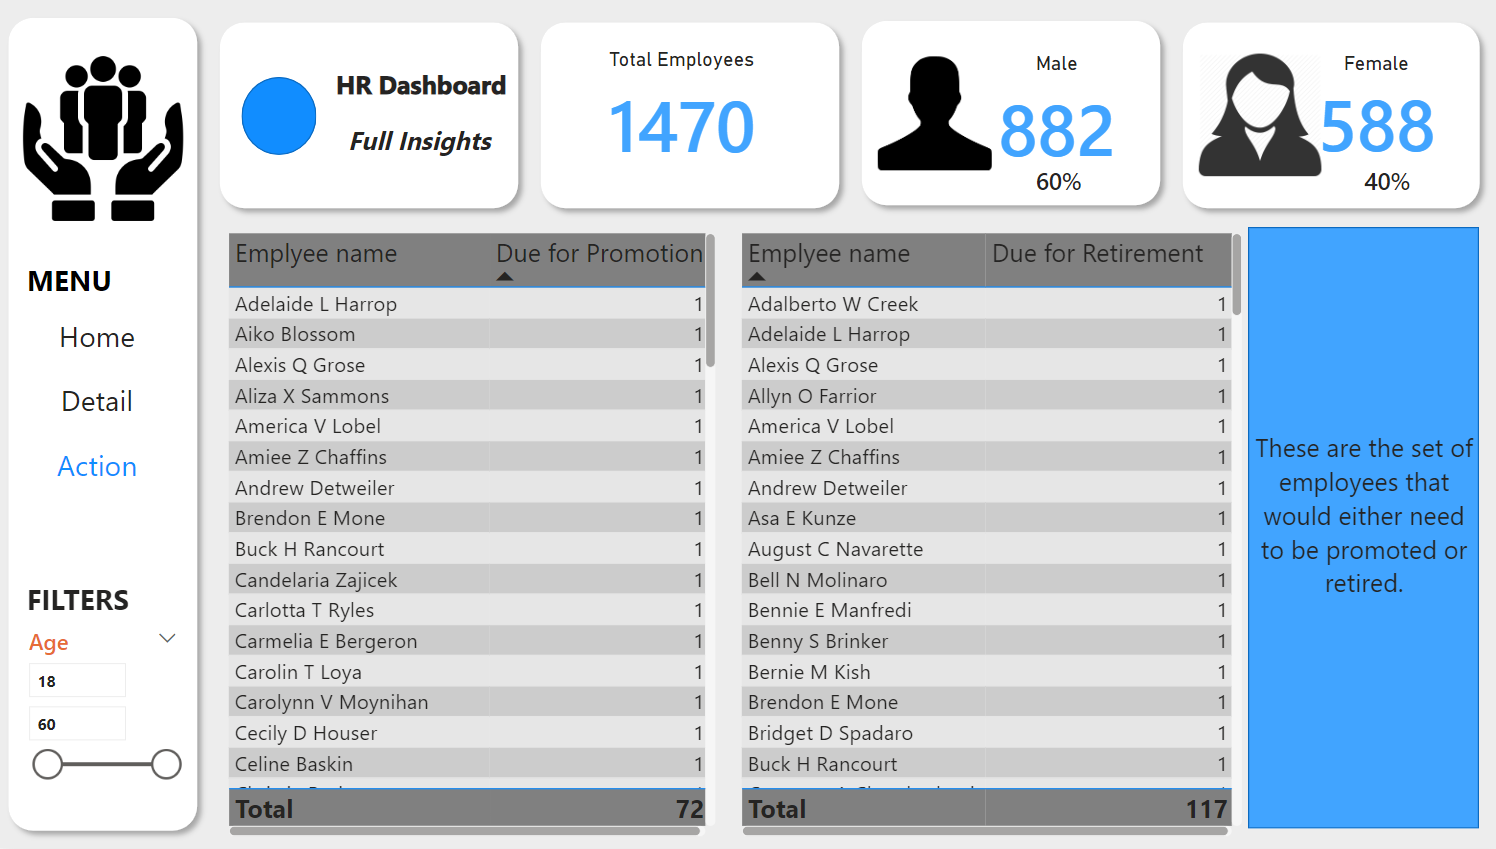

The dashboard page shown, as its layout file describes it:
{"tool":"powerbi","page":{"name":"Action","canvas":[1280,720],"ordinal":2},"visuals":[{"type":"shape","box":[0,6.4,179.4,708.7],"z":0},{"type":"shape","box":[451.7,10.2,272.3,176.9],"z":1000},{"type":"shape","box":[179.4,10.2,272.3,176.9],"z":2000},{"type":"shape","box":[724,8.9,272.3,175.6],"z":3000},{"type":"shape","box":[996.3,10.2,271,176.9],"z":4000},{"type":"textbox","box":[282.5,52.2,169.2,57.3],"z":5000},{"type":"textbox","box":[292.6,99.2,150.1,42],"z":6000},{"type":"card","title":"Total Employees","fields":{"Values":["New Measures.Total Emp"]},"box":[501.3,40.7,159,105.6],"z":7000},{"type":"card","title":"Male","fields":{"Values":["New Measures.Male"]},"box":[819.4,44.5,159,105.6],"z":8000},{"type":"card","title":"Female","fields":{"Values":["New Measures.Female"]},"box":[1101.9,44.5,136.1,96.7],"z":9000},{"type":"image","box":[741.8,14,106.9,165.4],"z":10000},{"type":"image","box":[1014.1,7.6,114.5,181.9],"z":11000},{"type":"card","fields":{"Values":["New Measures.% male"]},"box":[849.9,127.2,100.5,57.3],"z":12000},{"type":"card","fields":{"Values":["New Measures.% female"]},"box":[1128.6,118.3,100.5,75.1],"z":13000},{"type":"tableEx","title":"Total Employees","fields":{"Values":["HR employee data.Emplyee name","New Measures.Due for Promotion"]},"box":[190.9,193.4,423.7,521.7],"z":15000},{"type":"tableEx","title":"Total Employees","fields":{"Values":["HR employee data.Emplyee name","New Measures.Due for Retirement"]},"box":[626,193.4,435.1,521.7],"z":16000},{"type":"shape","box":[1061.2,193.4,195.9,510.2],"z":17000},{"type":"textbox","box":[1060.7,359.5,196.9,164.1],"z":18000},{"type":"slicer","fields":{"Values":["HR Analytics Data.Age"]},"box":[14,526.8,150.1,151.4],"z":19000},{"type":"textbox","box":[20.4,216.3,137.4,45.8],"z":20000},{"type":"textbox","box":[20.4,487.3,129.8,50.9],"z":21000},{"type":"shape","box":[207.4,66.2,63.6,66.2],"z":22000},{"type":"image","box":[0,33.1,179.4,170.5],"z":23000},{"type":"pageNavigator","title":"Menu","box":[20.4,262.1,129.8,157.8],"z":24000}]}

Visuals, with their boxes in screenshot pixels (x1, y1, x2, y2), scaled from the page's 1280x720 canvas onto the 1496x849 screenshot:
shape: l=0, t=8, r=210, b=843
shape: l=528, t=12, r=846, b=221
shape: l=210, t=12, r=528, b=221
shape: l=846, t=10, r=1164, b=218
shape: l=1164, t=12, r=1481, b=221
textbox: l=330, t=62, r=528, b=129
textbox: l=342, t=117, r=517, b=166
"Total Employees" card: l=586, t=48, r=772, b=173
"Male" card: l=958, t=52, r=1144, b=177
"Female" card: l=1288, t=52, r=1447, b=166
image: l=867, t=17, r=992, b=212
image: l=1185, t=9, r=1319, b=223
card - New Measures.% male: l=993, t=150, r=1111, b=218
card - New Measures.% female: l=1319, t=139, r=1437, b=228
"Total Employees" tableEx: l=223, t=228, r=718, b=843
"Total Employees" tableEx: l=732, t=228, r=1240, b=843
shape: l=1240, t=228, r=1469, b=830
textbox: l=1240, t=424, r=1470, b=617
slicer - HR Analytics Data.Age: l=16, t=621, r=192, b=800
textbox: l=24, t=255, r=184, b=309
textbox: l=24, t=575, r=176, b=635
shape: l=242, t=78, r=317, b=156
image: l=0, t=39, r=210, b=240
"Menu" pageNavigator: l=24, t=309, r=176, b=495
